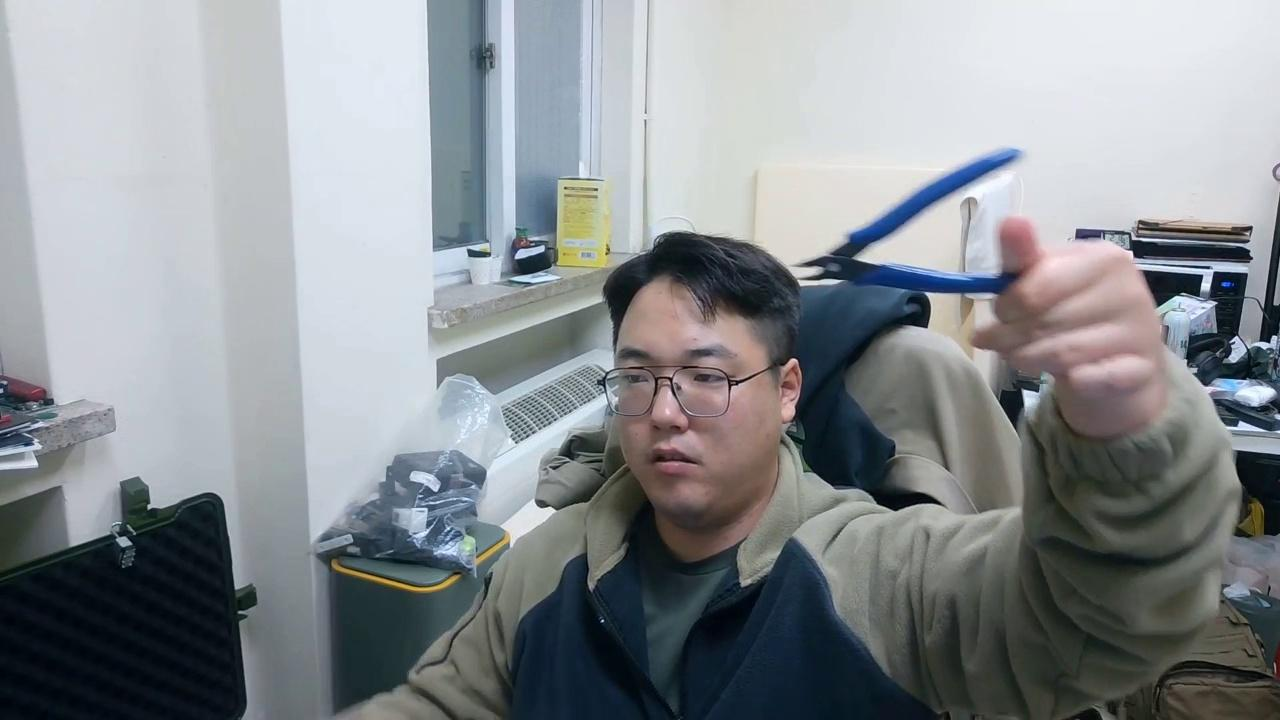blue_pliers: (790, 145, 1026, 299)
